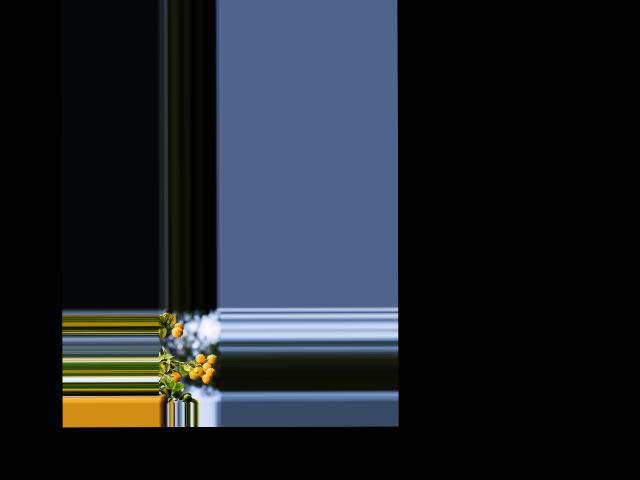lemon: (201, 372, 215, 383)
